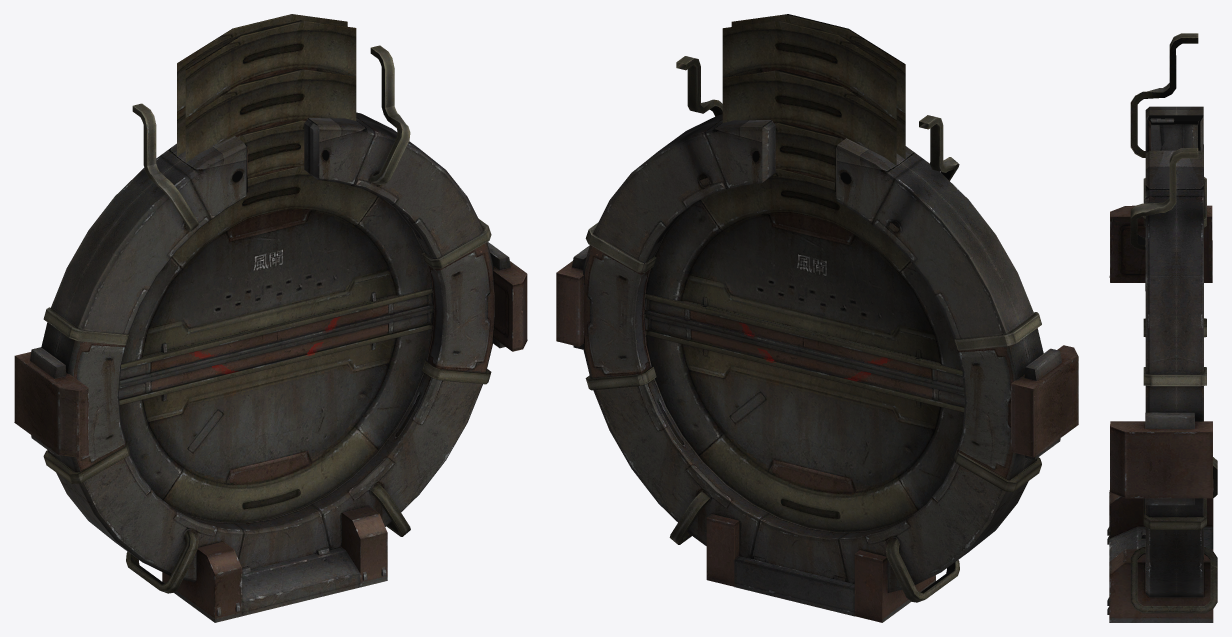
File: slidedoor_04_03.dae
The picture shows the model from 3 angles, left to right: view 1: azimuth 30°, elevation 25°; view 2: azimuth 150°, elevation 25°; view 3: azimuth 270°, elevation 25°; orthographic projection. The views are drawn at different scales.
Parts seen in each view (by area): view 1: frame, door_top, door_bottom; view 2: frame, door_top, door_bottom; view 3: frame.
Boxes of the visible parts, x1,y1,x2,y2 form: frame: (14,45,527,622); door_top: (119,14,433,384); door_bottom: (118,308,433,522); frame: (556,56,1078,622); door_top: (644,14,963,391); door_bottom: (644,314,964,532); frame: (1107,33,1217,622).
Size of the model in its own units: 3.68 by 4.15 by 0.7575.
